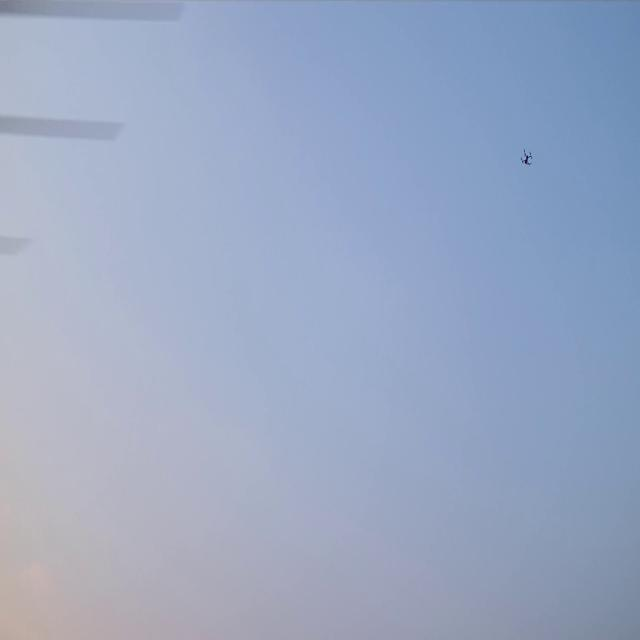UAV: (520, 146, 534, 168)
